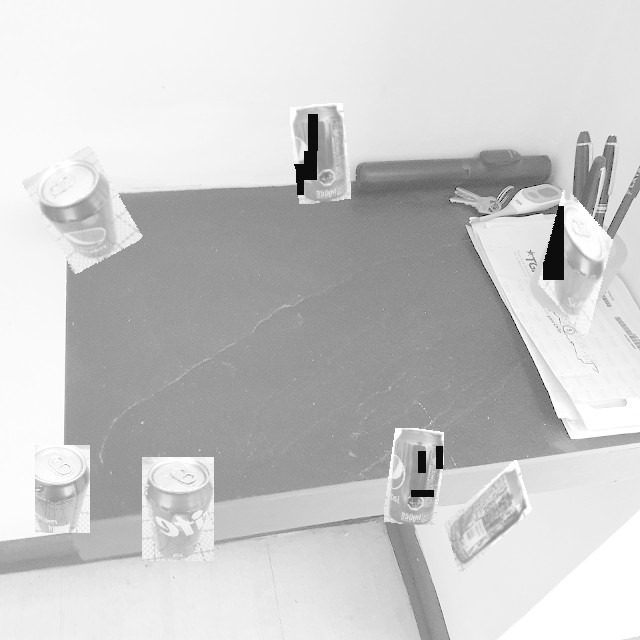pepsi: (4, 131, 162, 289), (425, 460, 550, 573), (290, 103, 351, 204), (384, 428, 444, 525)
schweppes: (511, 190, 620, 334), (35, 445, 90, 533)
sprite: (142, 457, 214, 561)
